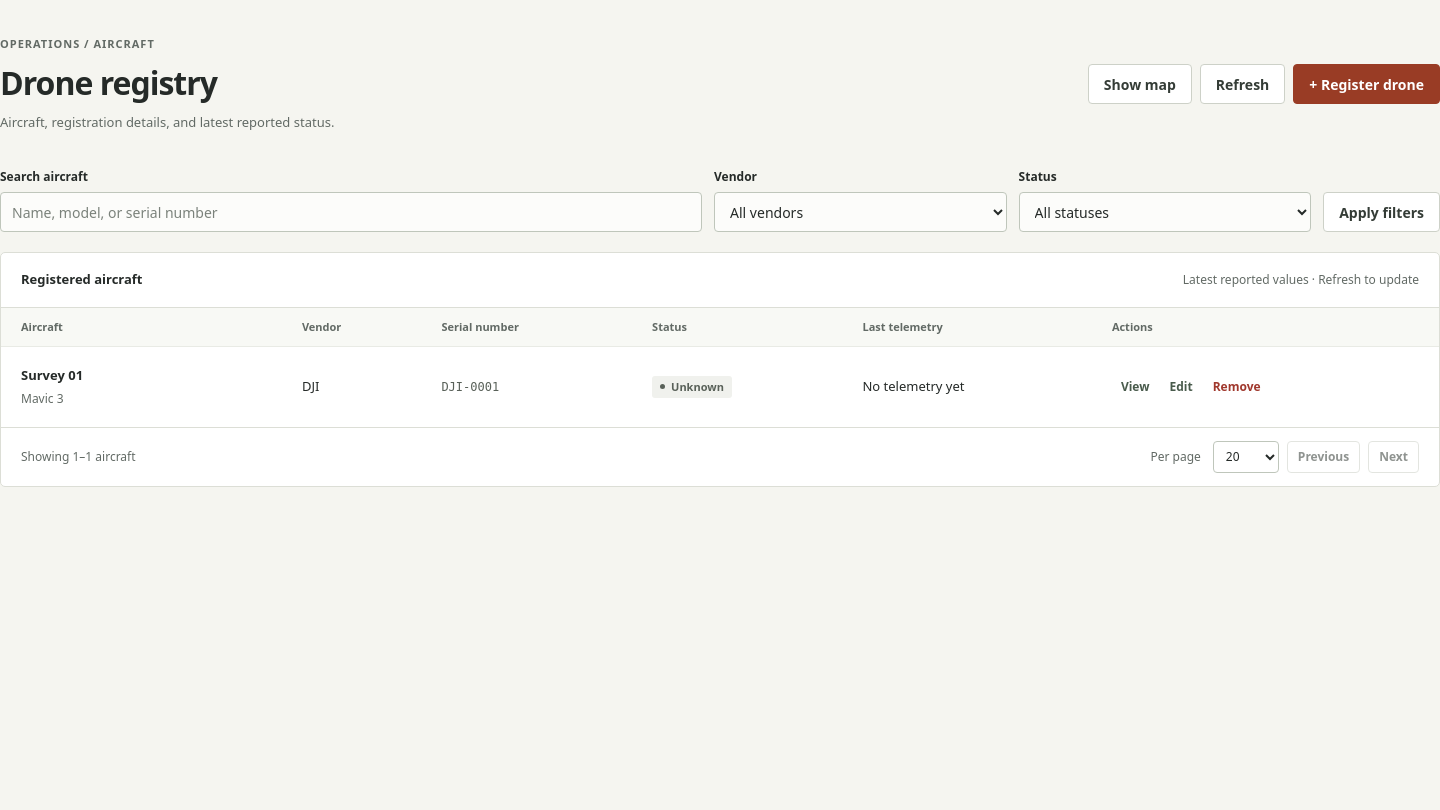
Test case: drone registry › requires confirmation for removal and supports cancelling
Expected: the text "Survey 01" is shown, [21, 366, 83, 384]
Click the button with aria-label "Remove Survey 01".
click(1237, 387)  # box [1204, 370, 1270, 404]
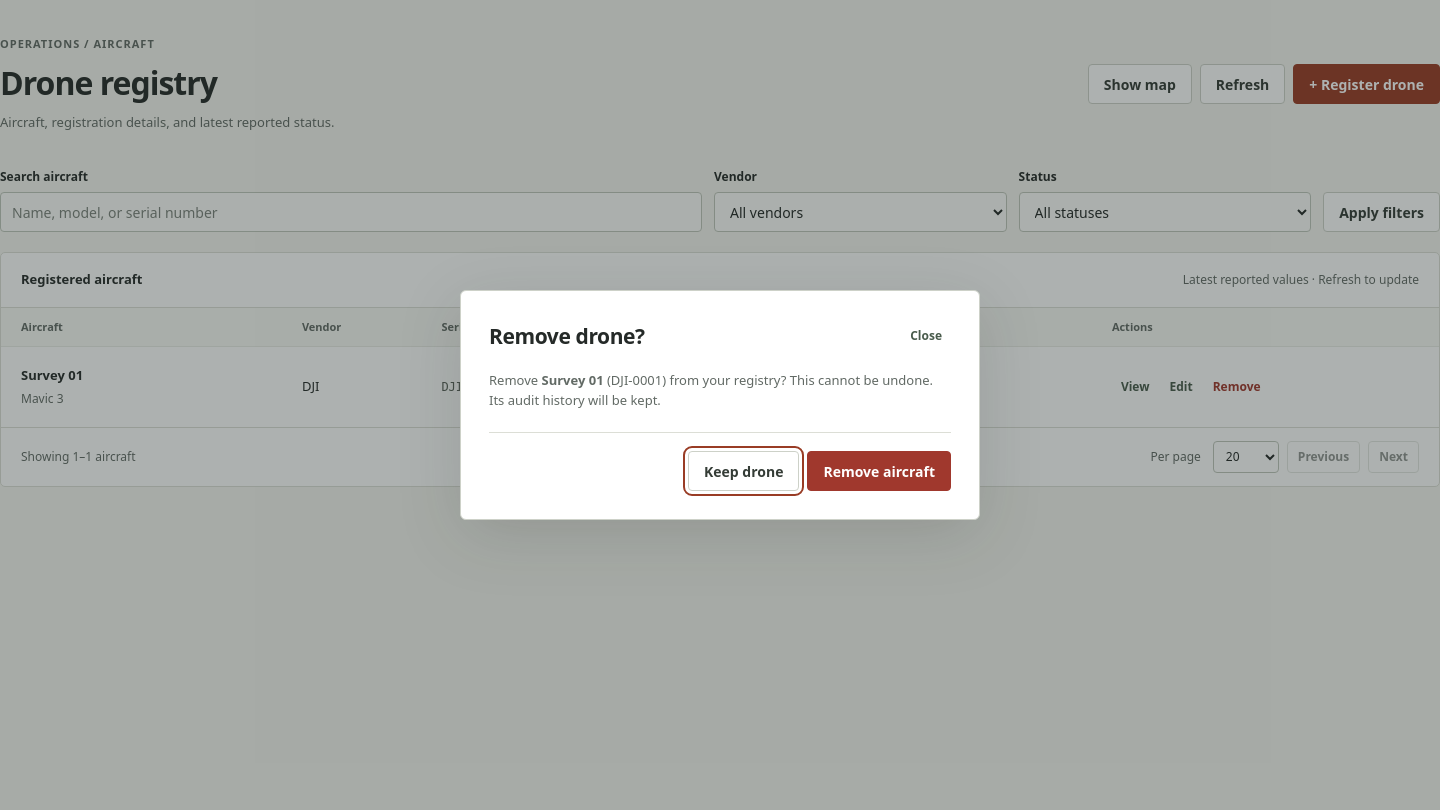
Result: the button "Keep drone" is shown
Click the button "Keep drone".
click(744, 471)  # box [688, 451, 799, 491]
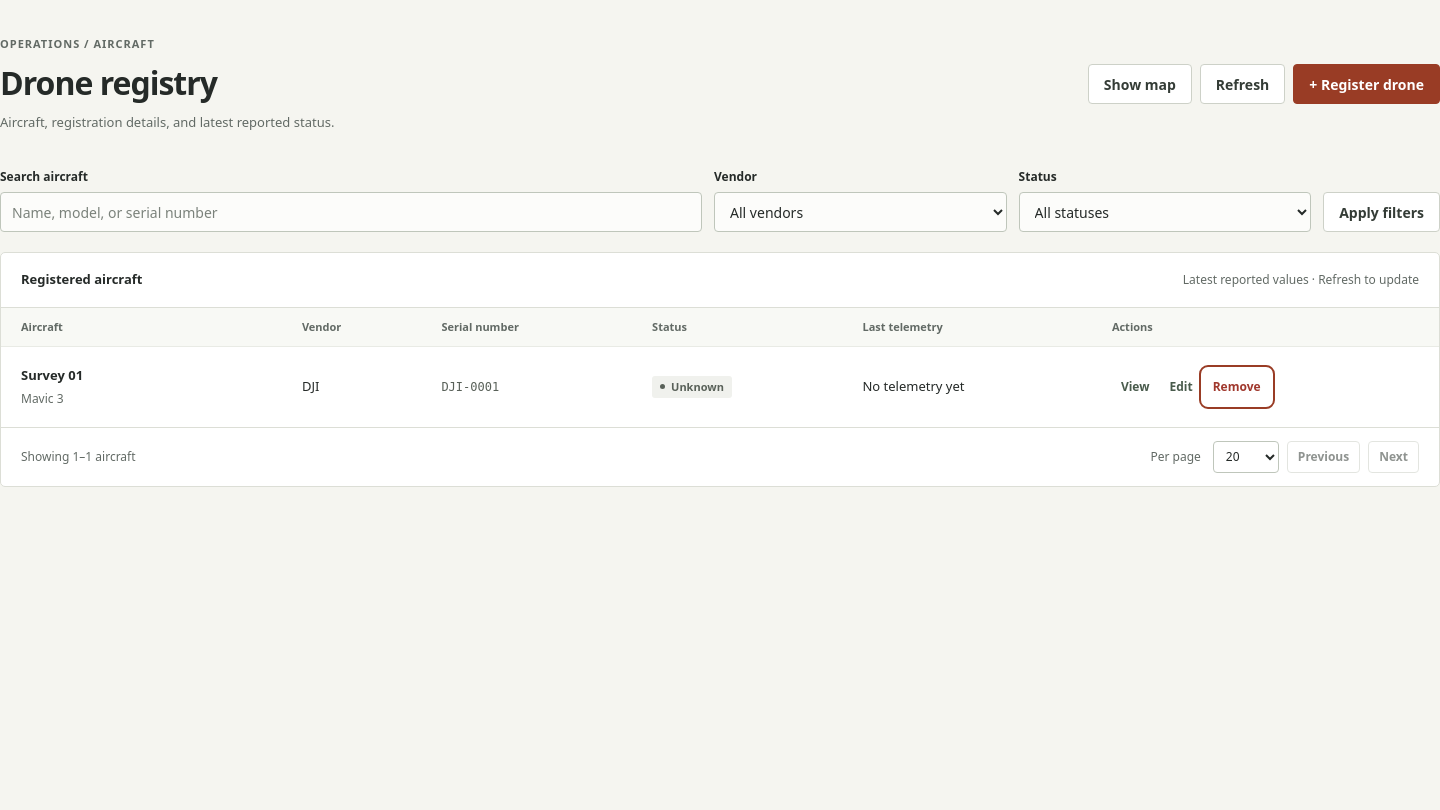
Result: the dialog is gone
Click the button with aria-label "Remove Survey 01".
click(1237, 387)  # box [1204, 370, 1270, 404]
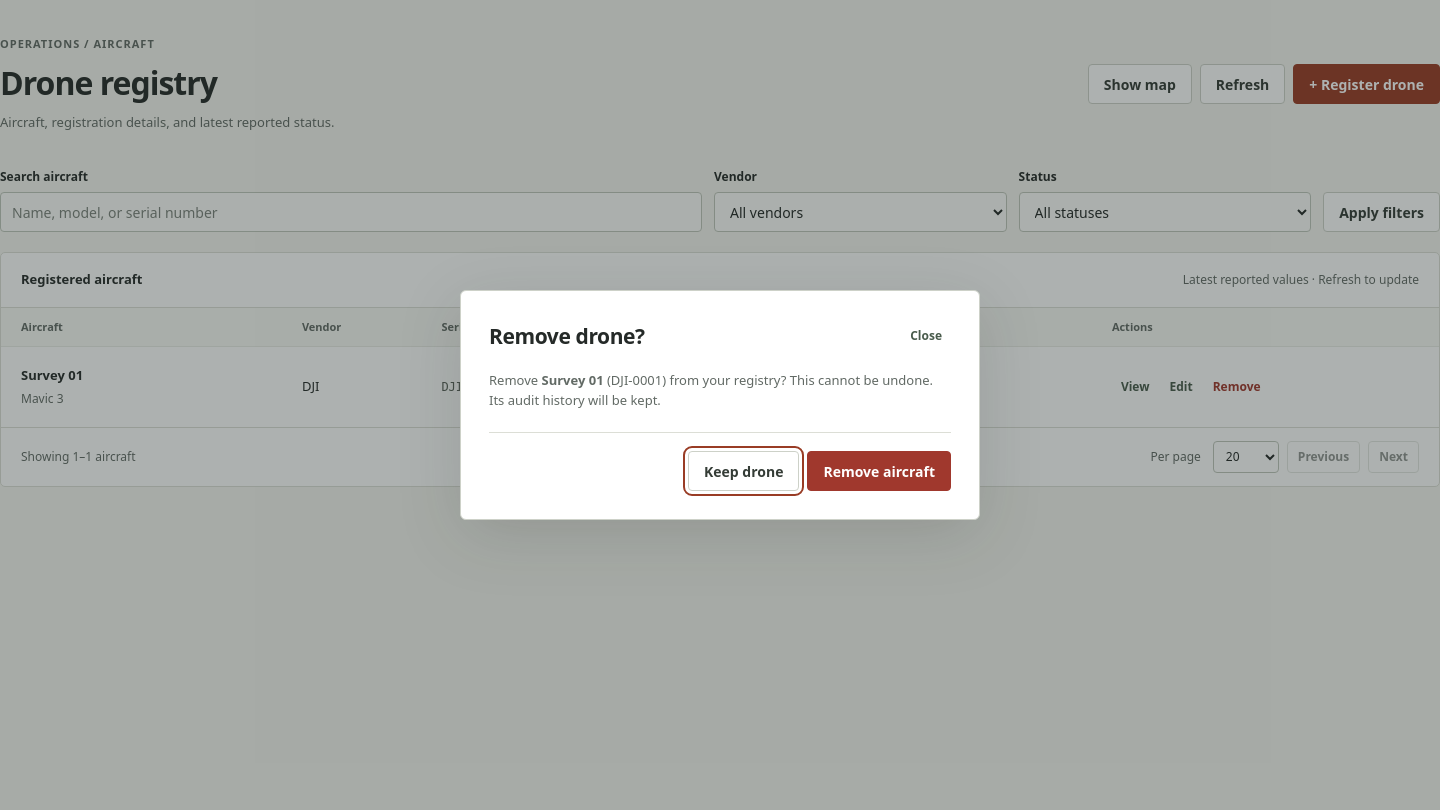
Click the button "Remove aircraft".
click(879, 471)  # box [807, 451, 951, 491]
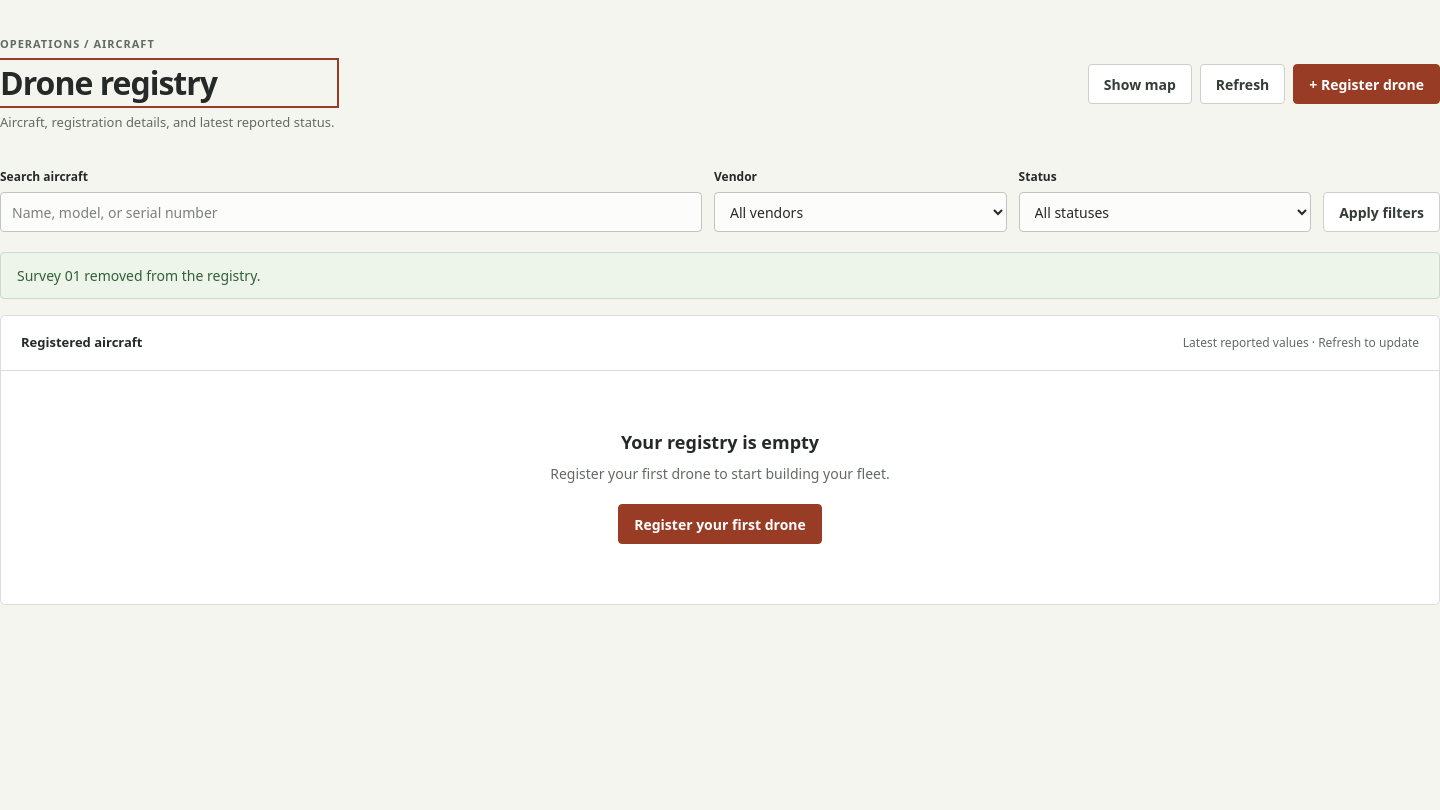
Result: the text "Survey 01 removed from the registry." is shown at [0, 252, 1439, 299]
Result: the heading "Your registry is empty" is shown at [621, 430, 819, 454]
